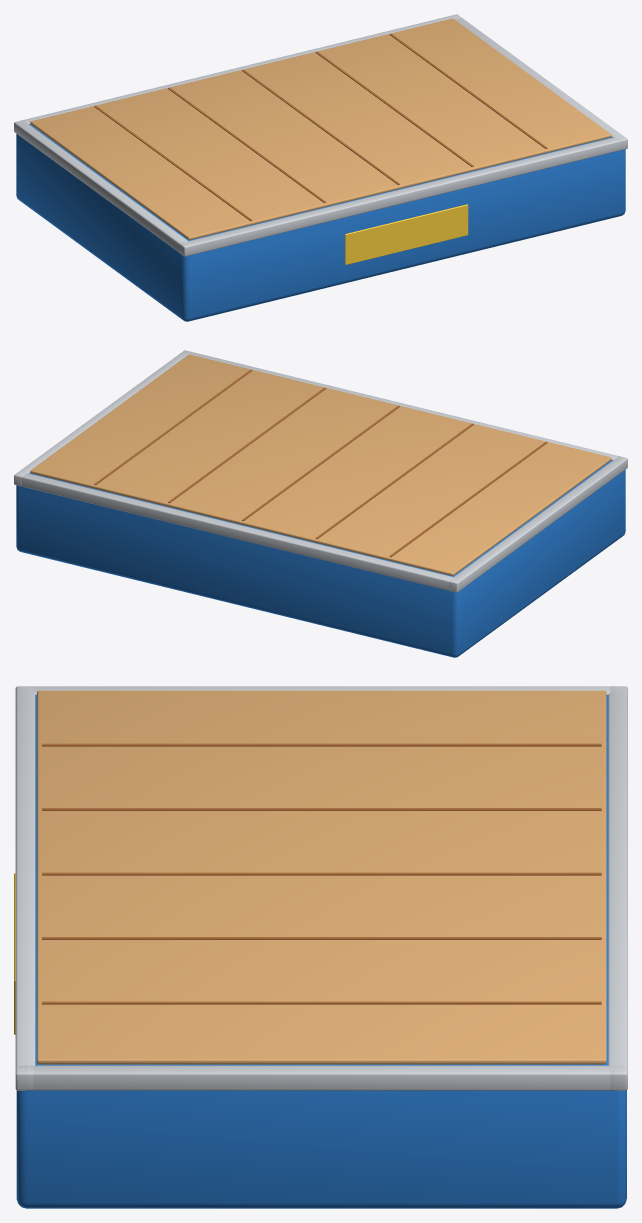
Rendered from skate_caixote.glb.
3 views of the same model, one above another, from view 1: azimuth 30°, elevation 25°; view 2: azimuth 150°, elevation 25°; view 3: azimuth 270°, elevation 25° (orthographic). The views are drawn at different scales.
Parts seen in each view (by area): view 1: skate_caixote; view 2: skate_caixote; view 3: skate_caixote.
Boxes of the visible parts, left/top/right/bottom form: skate_caixote: left=14, top=14, right=627, bottom=321; skate_caixote: left=14, top=350, right=627, bottom=657; skate_caixote: left=14, top=686, right=627, bottom=1208.
Bounding box in the file's own units: 1.8 × 0.315 × 1.21.
Materials: 1 (1 with a texture image).
